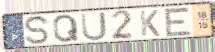2: (110, 9, 135, 42)
E: (162, 6, 194, 37)
K: (139, 9, 162, 37)
Q: (51, 13, 81, 44)
S: (24, 15, 52, 46)
U: (79, 11, 108, 43)
